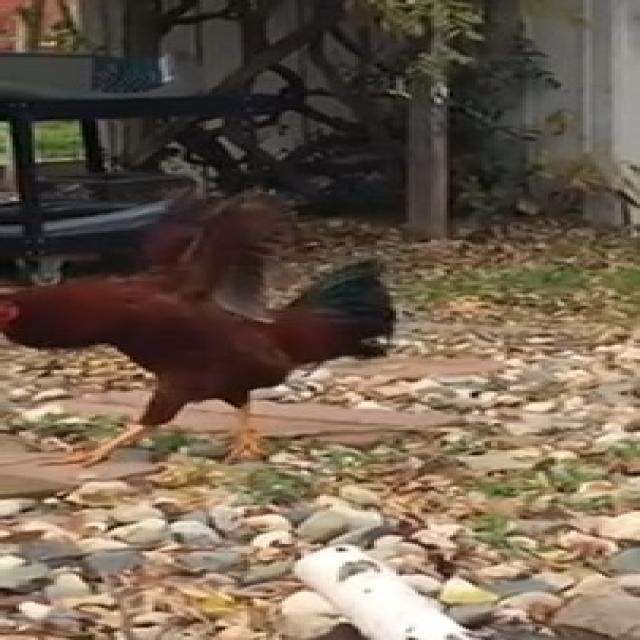wing flap: (0, 190, 412, 468)
